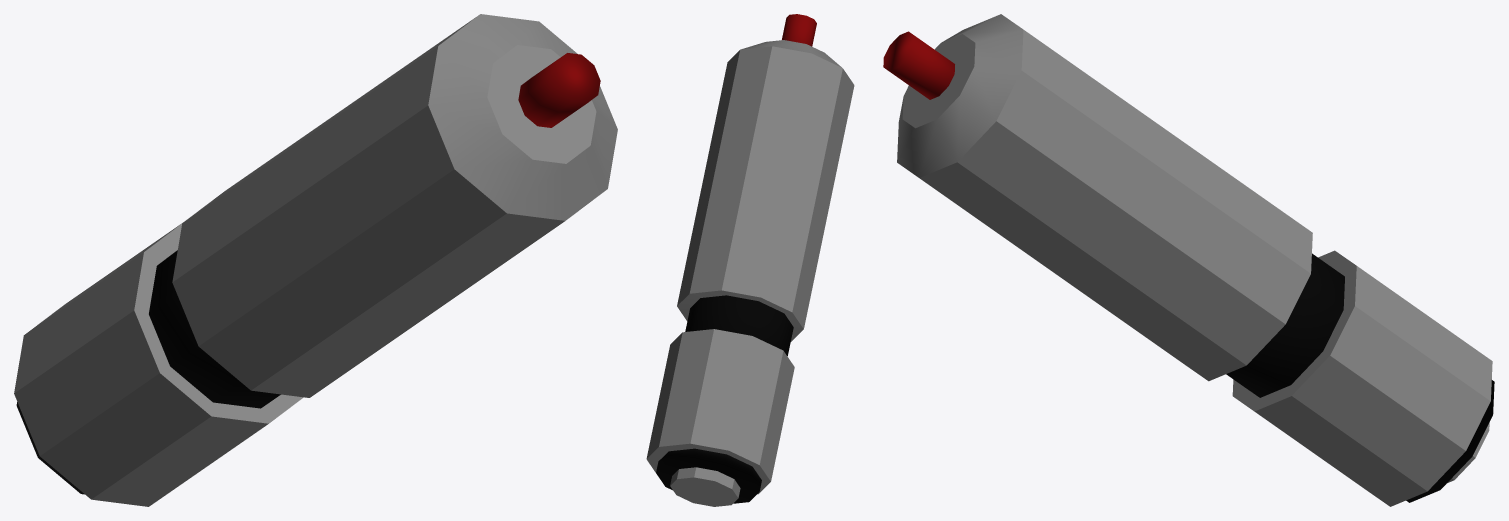
Rendered from puntero.fbx.
The picture shows the model from 3 angles, left to right: view 1: azimuth 30°, elevation 25°; view 2: azimuth 150°, elevation 25°; view 3: azimuth 270°, elevation 25°; orthographic projection. The views are drawn at different scales.
Parts seen in each view (by area): view 1: Cylinder, Cylinder.001, Cylinder.003; view 2: Cylinder, Cylinder.001, Cylinder.002, Cylinder.003; view 3: Cylinder, Cylinder.001, Cylinder.003, Cylinder.002.
Part boxes in pixels (x1,y1,x2,y2): Cylinder: [14, 14, 617, 506]; Cylinder.001: [149, 250, 280, 408]; Cylinder.003: [518, 53, 600, 127]; Cylinder: [646, 40, 854, 506]; Cylinder.001: [685, 295, 793, 355]; Cylinder.002: [656, 448, 761, 503]; Cylinder.003: [782, 14, 816, 46]; Cylinder: [897, 14, 1492, 506]; Cylinder.001: [1226, 253, 1344, 397]; Cylinder.003: [883, 31, 954, 99]; Cylinder.002: [1406, 380, 1494, 502].
Size of the model in its own units: 9.71 by 17.92 by 19.16.
